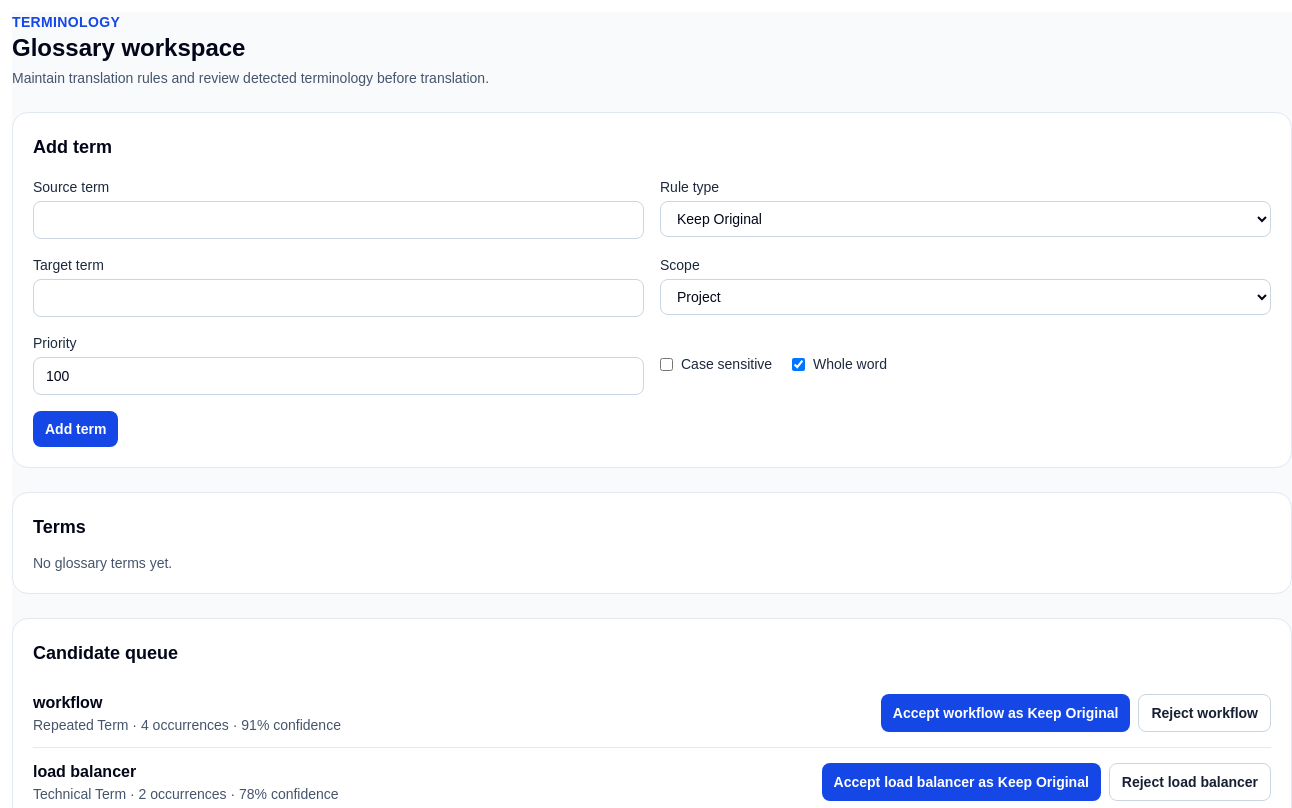
glossary workspace › accepts and rejects detected candidates
Expected: the text "workflow" is shown, [33,694,102,711]
Step 1. Click the button "Accept workflow as Keep Original" → (1006, 713), box [881,694,1130,732]
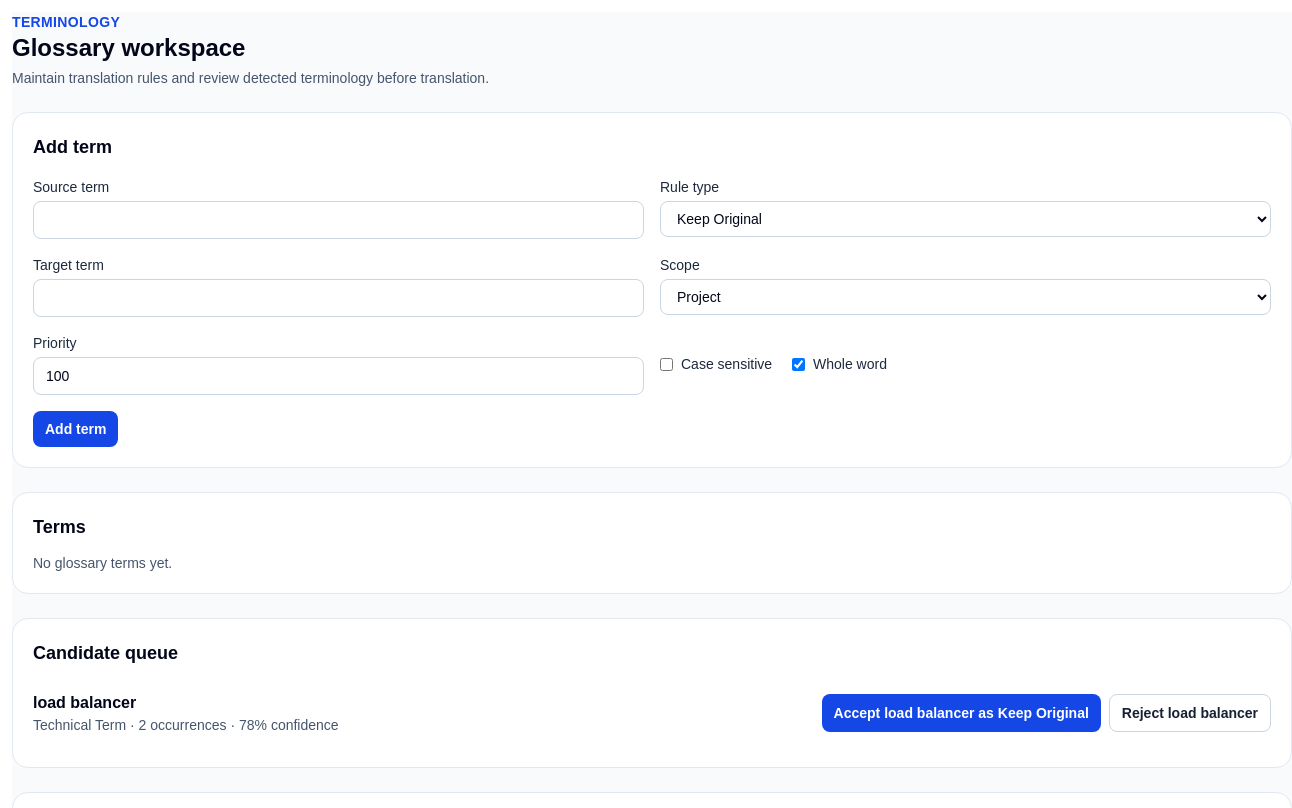
Step 2. Click the button "Reject load balancer" → (1190, 713), box [1109,694,1271,732]
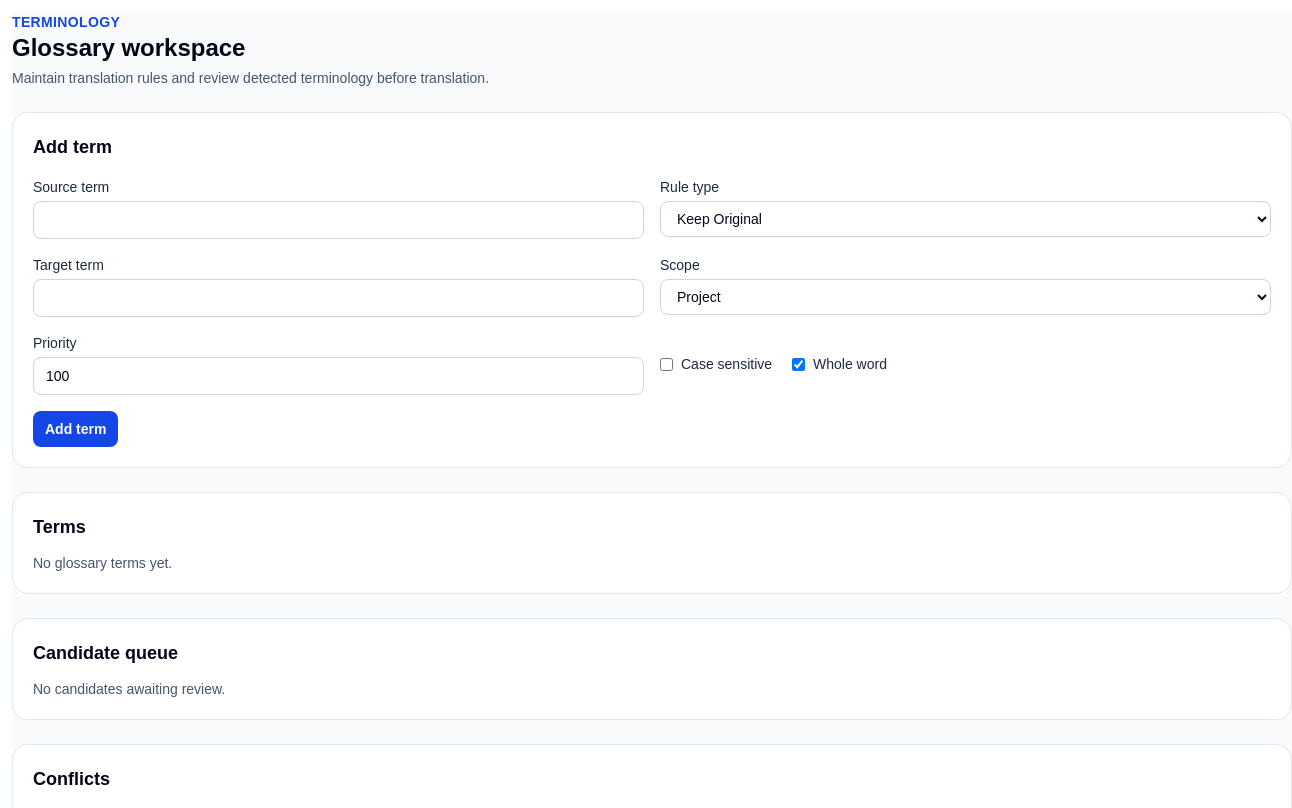
Result: the text "No candidates awaiting review." is shown at [33,681,225,697]
